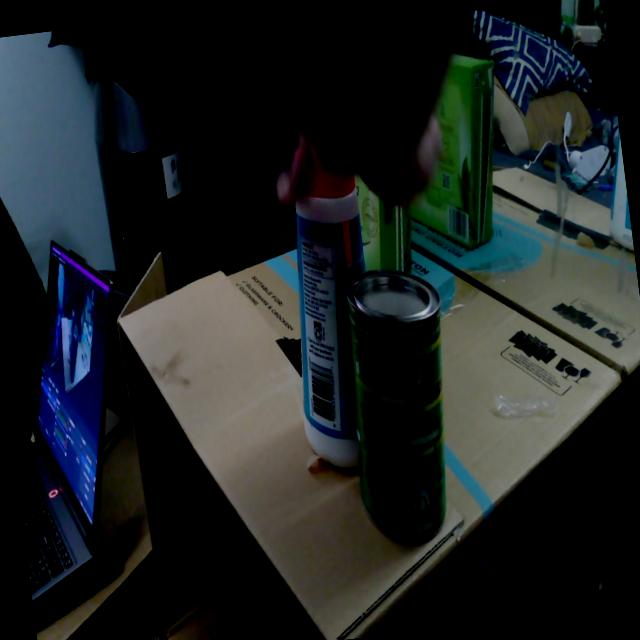nestle_milo_tin: (346, 269, 446, 541)
twinings_greentea_box: (355, 175, 411, 273)
woolworths_salt_bottle: (295, 172, 365, 468)
